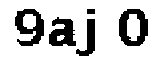0: (116, 6, 151, 50)
9: (12, 5, 45, 47)
a: (48, 16, 79, 49)
j: (74, 4, 103, 59)
